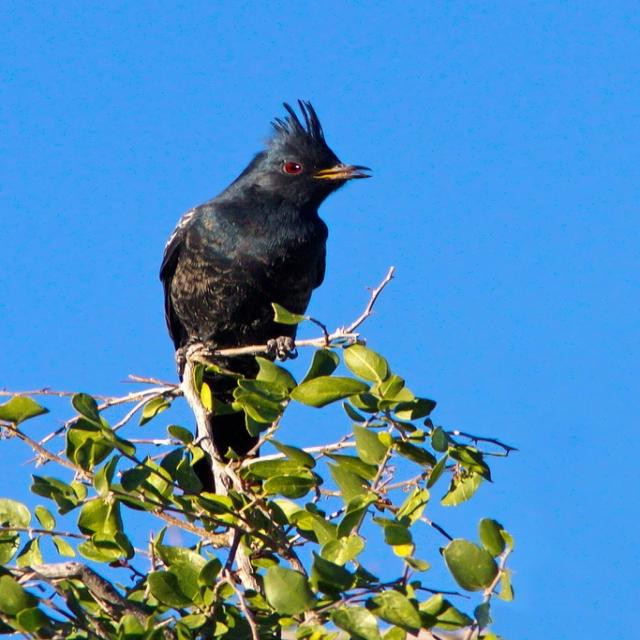bird: (152, 107, 366, 377), (300, 582, 424, 640), (218, 598, 262, 638)
